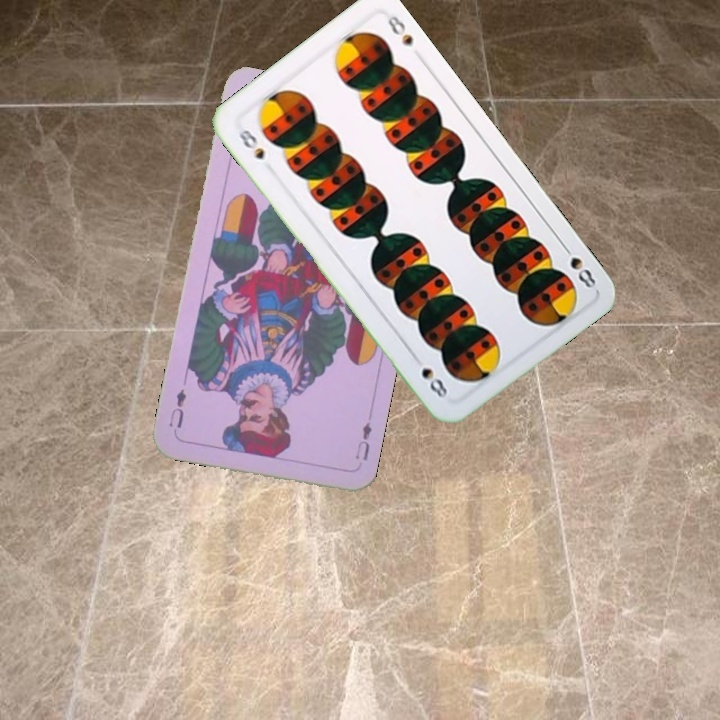EU: (351, 418, 375, 463)
S8: (557, 239, 599, 291), (234, 125, 267, 163)
